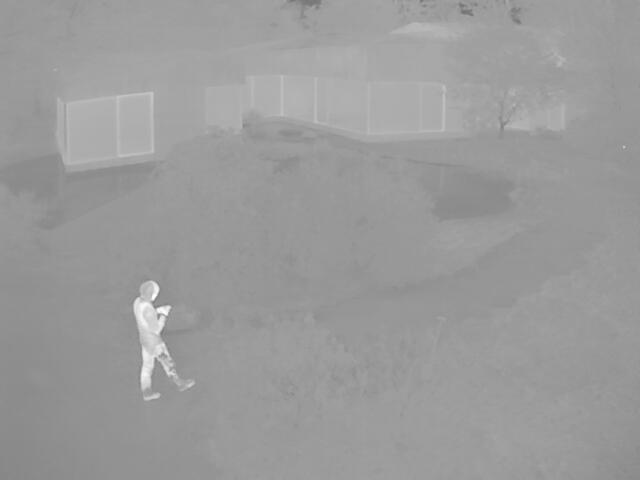person: (130, 280, 194, 403)
